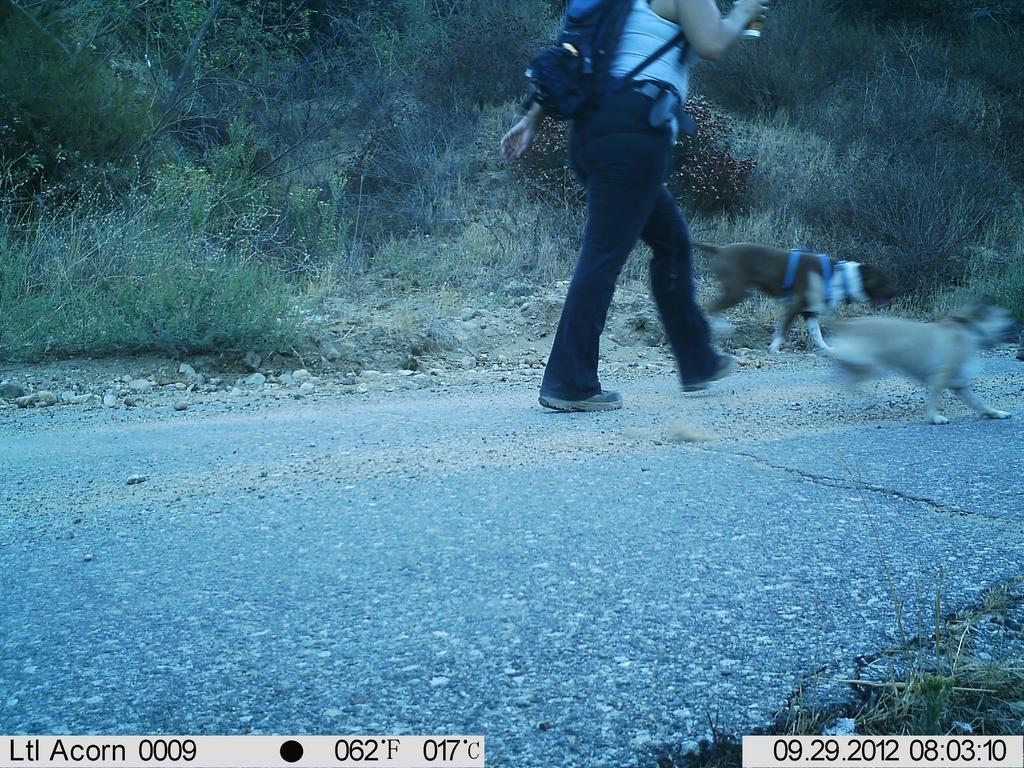dog: (811, 282, 1017, 428), (685, 233, 903, 362)
